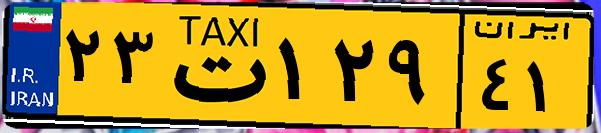1: (270, 28, 330, 110), (525, 38, 570, 115)
2: (330, 28, 385, 110), (57, 26, 110, 100)
3: (110, 28, 158, 98)
4: (475, 38, 525, 113)
9: (385, 28, 445, 110)
ت: (158, 12, 270, 120)
